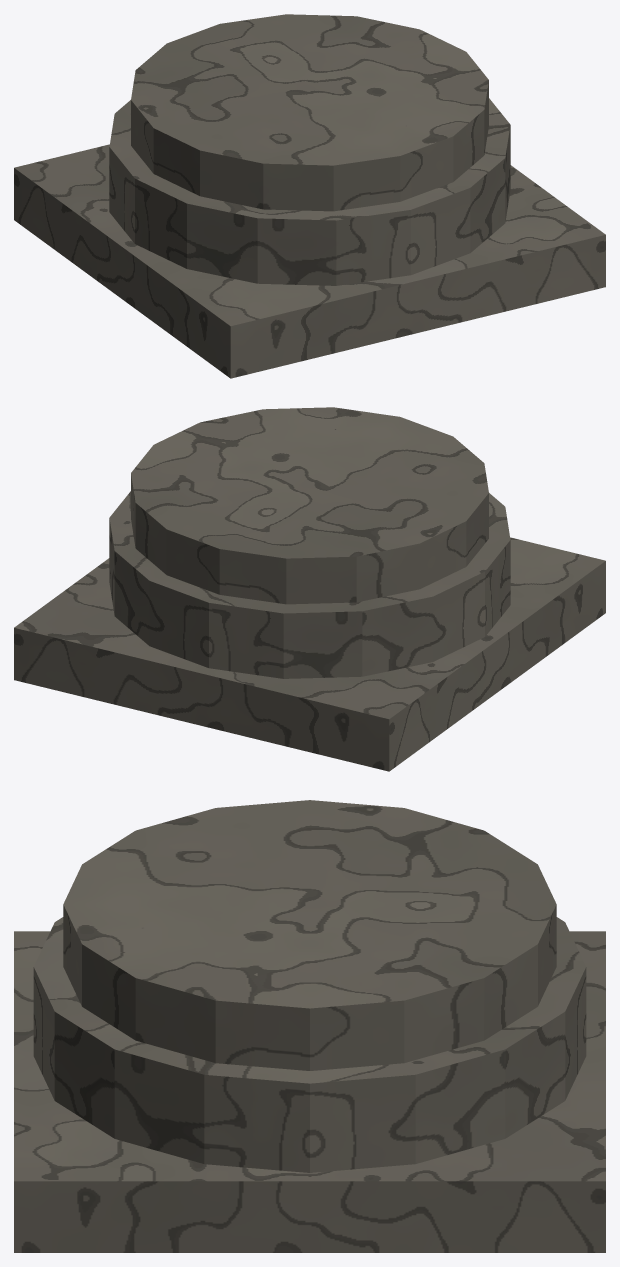
Rendered from column_round_base.glb.
3 renders of one model, top to bottom at view 1: azimuth 30°, elevation 25°; view 2: azimuth 150°, elevation 25°; view 3: azimuth 270°, elevation 25°, orthographic. The views are drawn at different scales.
Visible parts, largest first — view 1: column_round_base; view 2: column_round_base; view 3: column_round_base.
Part boxes in pixels (box(x1,y1,x2,y2)): column_round_base: box(14, 14, 605, 378); column_round_base: box(14, 407, 605, 771); column_round_base: box(14, 800, 605, 1252).
Size of the model in its own units: 0.6 by 0.25 by 0.6.
Materials: 1 (1 with a texture image).
